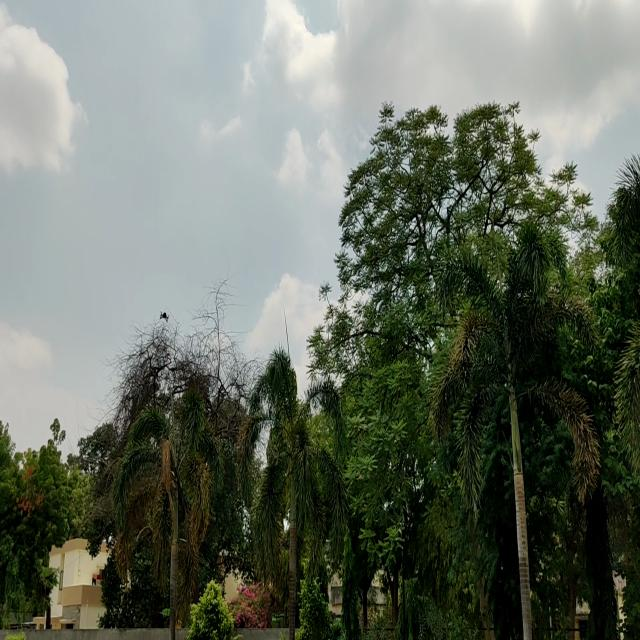drone: (153, 305, 176, 328)
